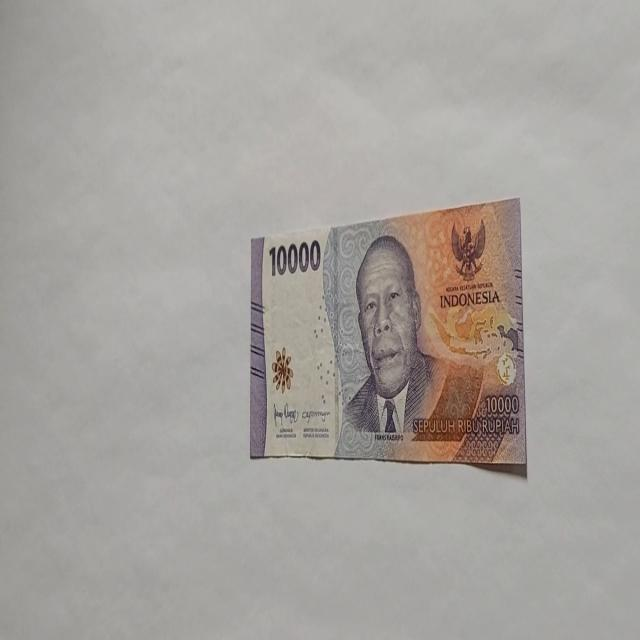sepuluh ribu rupiah: (248, 196, 528, 474)
